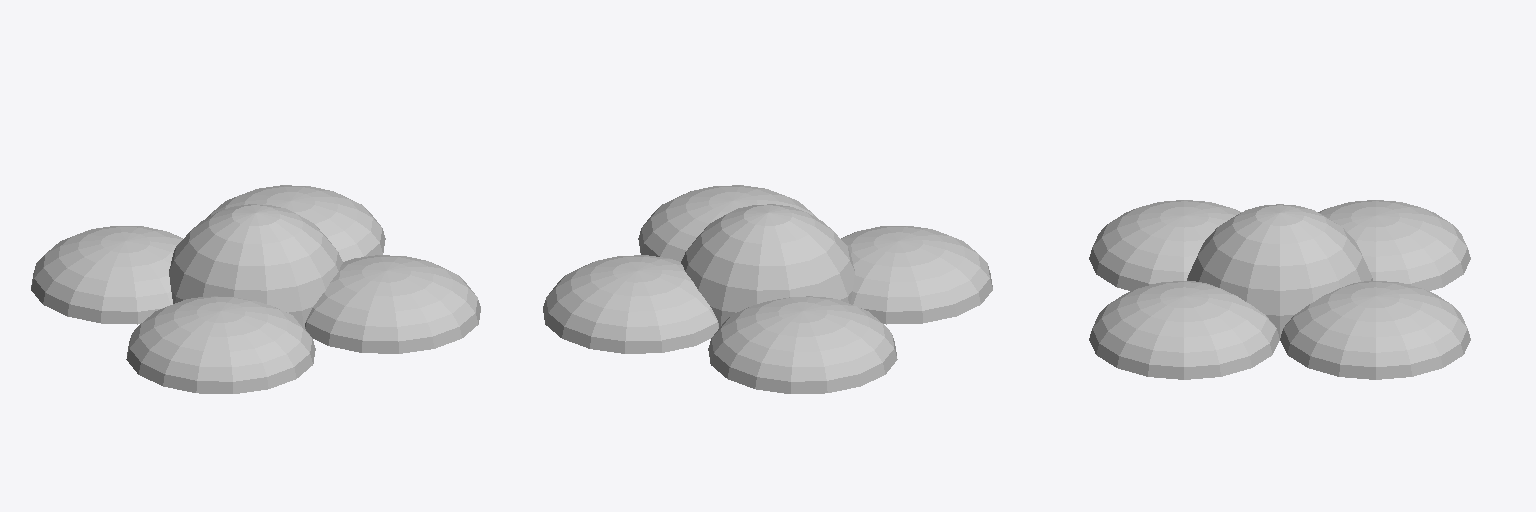
Rendered from obstacle05.obj.
3 renders of one model, left to right at view 1: azimuth 30°, elevation 25°; view 2: azimuth 150°, elevation 25°; view 3: azimuth 270°, elevation 25°, orthographic.
Parts seen in each view (by area): view 1: obstacle05; view 2: obstacle05; view 3: obstacle05.
Boxes of the visible parts, <box> form: obstacle05: <box>31,185,480,393</box>; obstacle05: <box>543,185,992,393</box>; obstacle05: <box>1089,200,1470,379</box>.
Bounding box in the file's own units: 2 × 0.5 × 2.